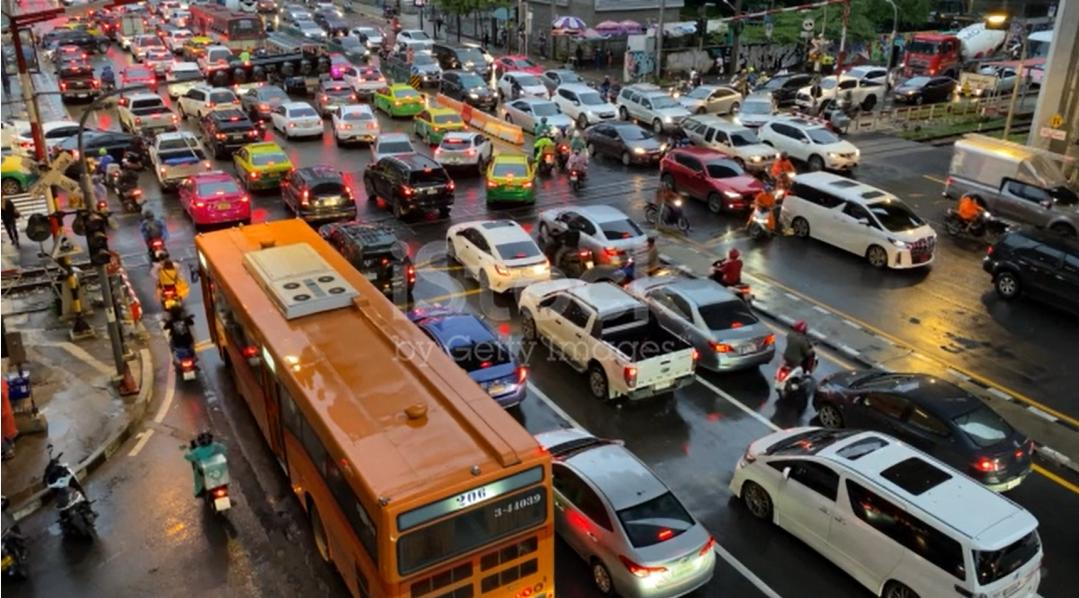bus: (184, 201, 582, 598)
car: (714, 399, 1068, 598), (807, 352, 1067, 498), (534, 411, 709, 598), (531, 262, 696, 416), (771, 164, 946, 276), (402, 289, 531, 413), (659, 266, 787, 389), (442, 206, 565, 308), (947, 149, 1063, 240), (657, 141, 776, 219), (342, 146, 451, 225), (329, 216, 419, 308), (541, 199, 655, 269), (761, 109, 859, 177), (174, 162, 248, 240), (419, 34, 521, 90), (671, 104, 769, 162), (582, 112, 665, 180), (494, 87, 582, 150), (4, 119, 107, 169), (439, 116, 501, 184), (237, 126, 295, 197), (479, 154, 538, 215), (611, 82, 685, 130), (114, 86, 182, 138), (281, 164, 339, 220), (182, 78, 247, 127), (269, 94, 330, 142), (332, 97, 379, 154), (411, 96, 461, 145), (374, 79, 416, 125)
motorcycle: (182, 429, 250, 557), (31, 456, 108, 559), (757, 332, 818, 417), (167, 334, 207, 403)
